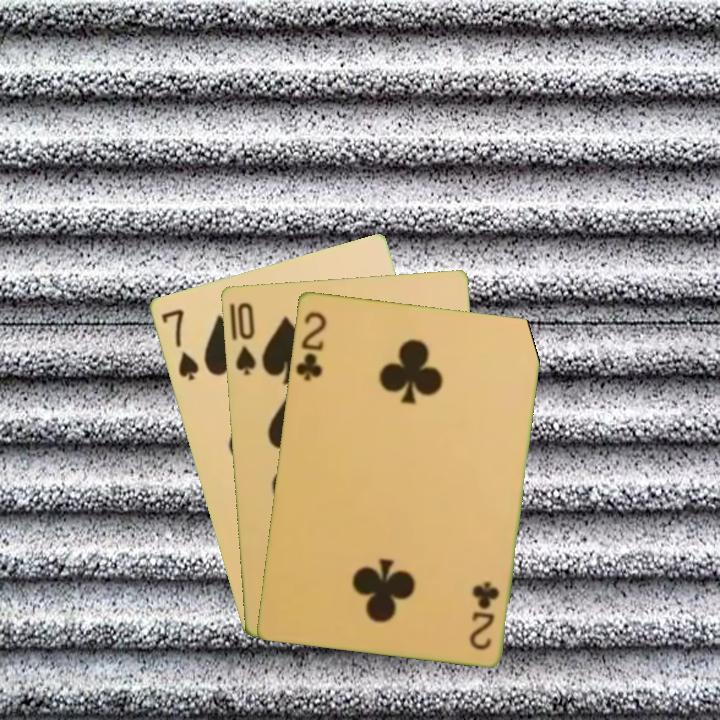10s: (231, 298, 258, 378)
2c: (292, 307, 329, 384), (465, 577, 502, 653)
7s: (157, 305, 201, 383)
